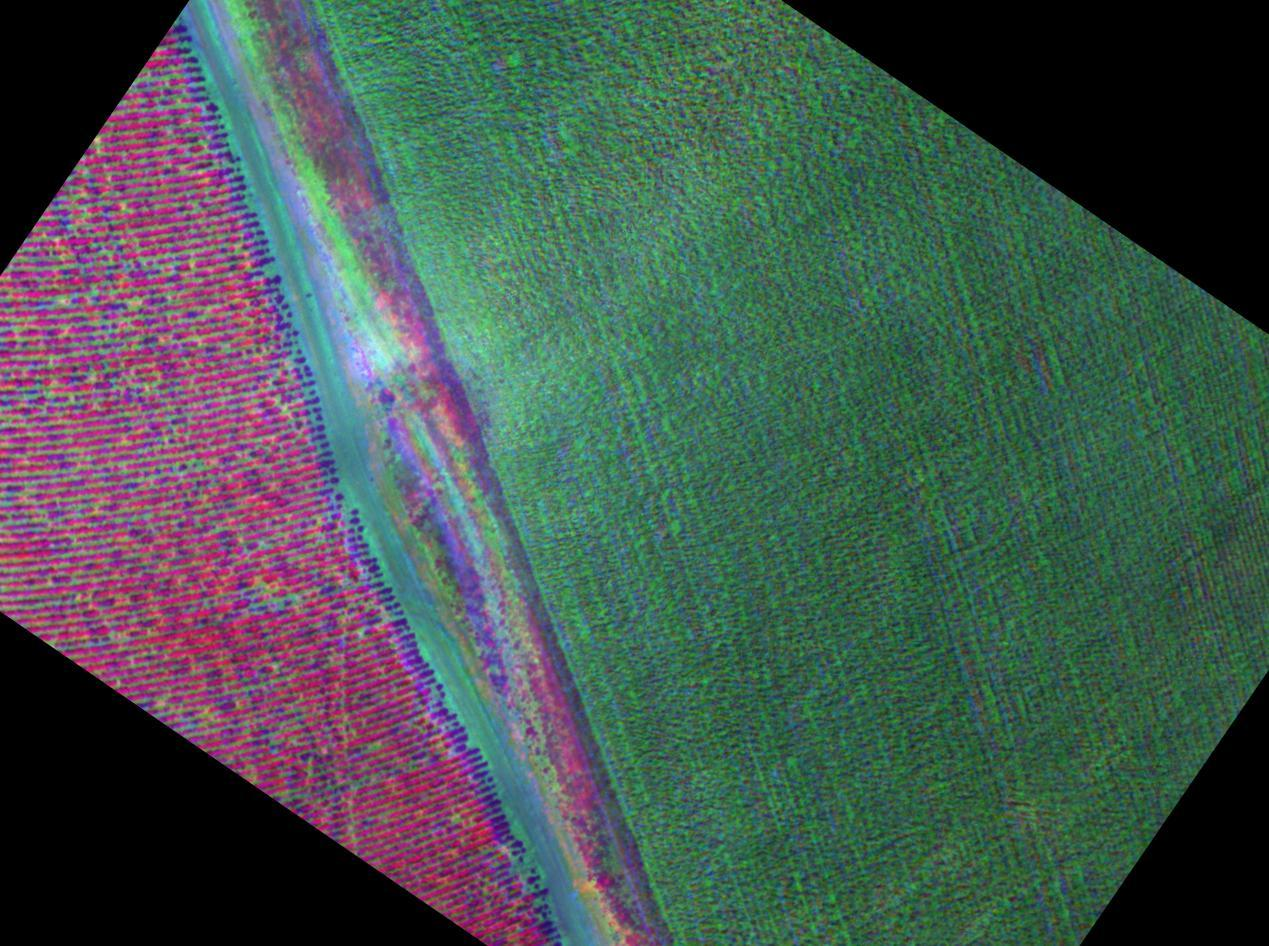dc: (128, 393, 219, 492), (228, 523, 310, 620), (58, 283, 165, 345), (3, 388, 63, 486), (88, 140, 167, 214)
